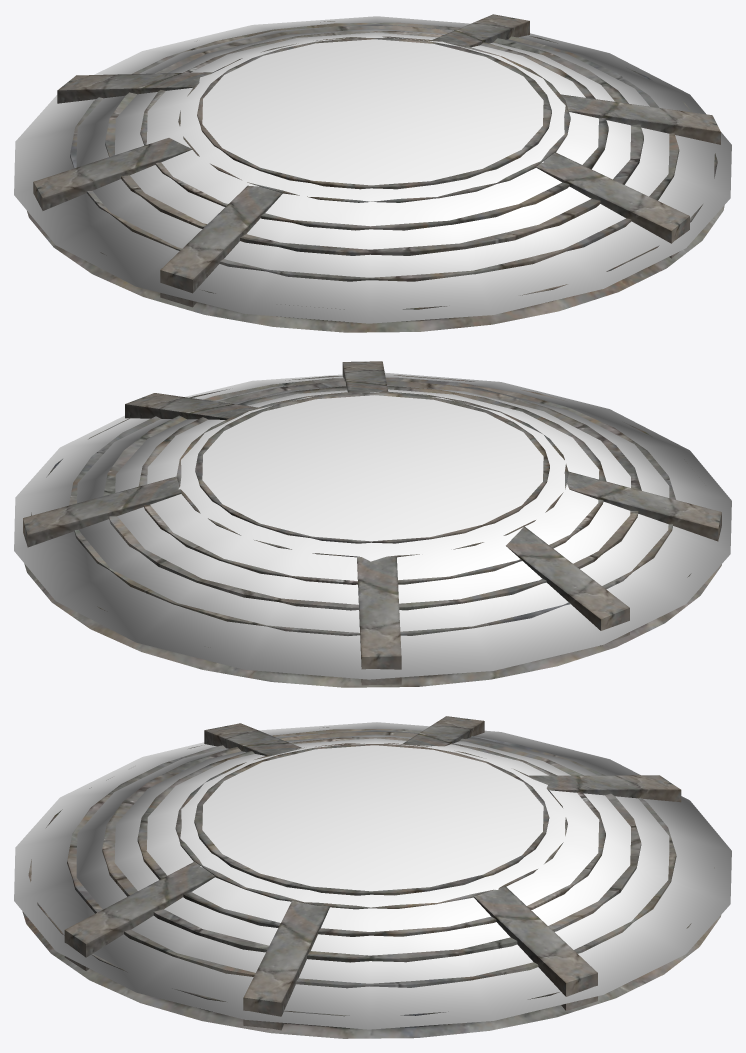
The model's file is Tower_A.fbx.
The picture shows the model from 3 angles, top to bottom: view 1: azimuth 30°, elevation 25°; view 2: azimuth 150°, elevation 25°; view 3: azimuth 270°, elevation 25°; orthographic projection.
Parts seen in each view (by area): view 1: Tower_A_PZ, Tower_A; view 2: Tower_A_PZ, Tower_A; view 3: Tower_A_PZ, Tower_A.
Part boxes in pixels (x1=…): Tower_A_PZ: x1=14, y1=16, x2=731, y2=323; Tower_A: x1=27, y1=14, x2=724, y2=332; Tower_A_PZ: x1=14, y1=372, x2=731, y2=679; Tower_A: x1=23, y1=361, x2=721, y2=687; Tower_A_PZ: x1=14, y1=722, x2=731, y2=1029; Tower_A: x1=22, y1=716, x2=721, y2=1038.
Bounding box in the file's own units: 2.47 × 0.2691 × 2.44.
